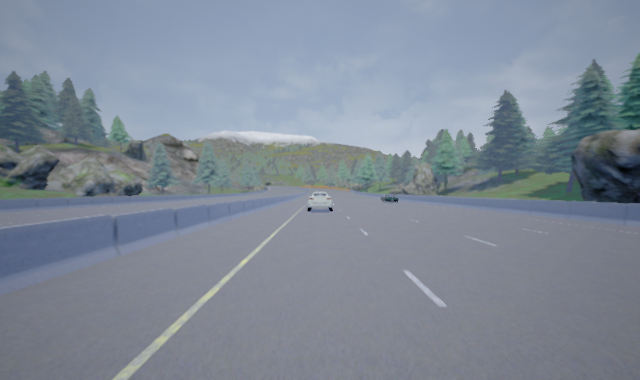vehicle: (306, 191, 333, 211), (381, 194, 398, 203)
